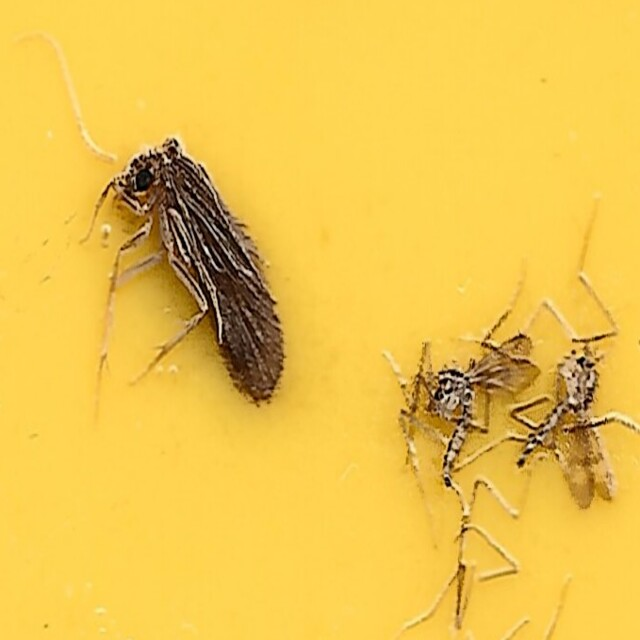Nematocera: (402, 321, 546, 502)
Trichoptera: (94, 138, 289, 415)
